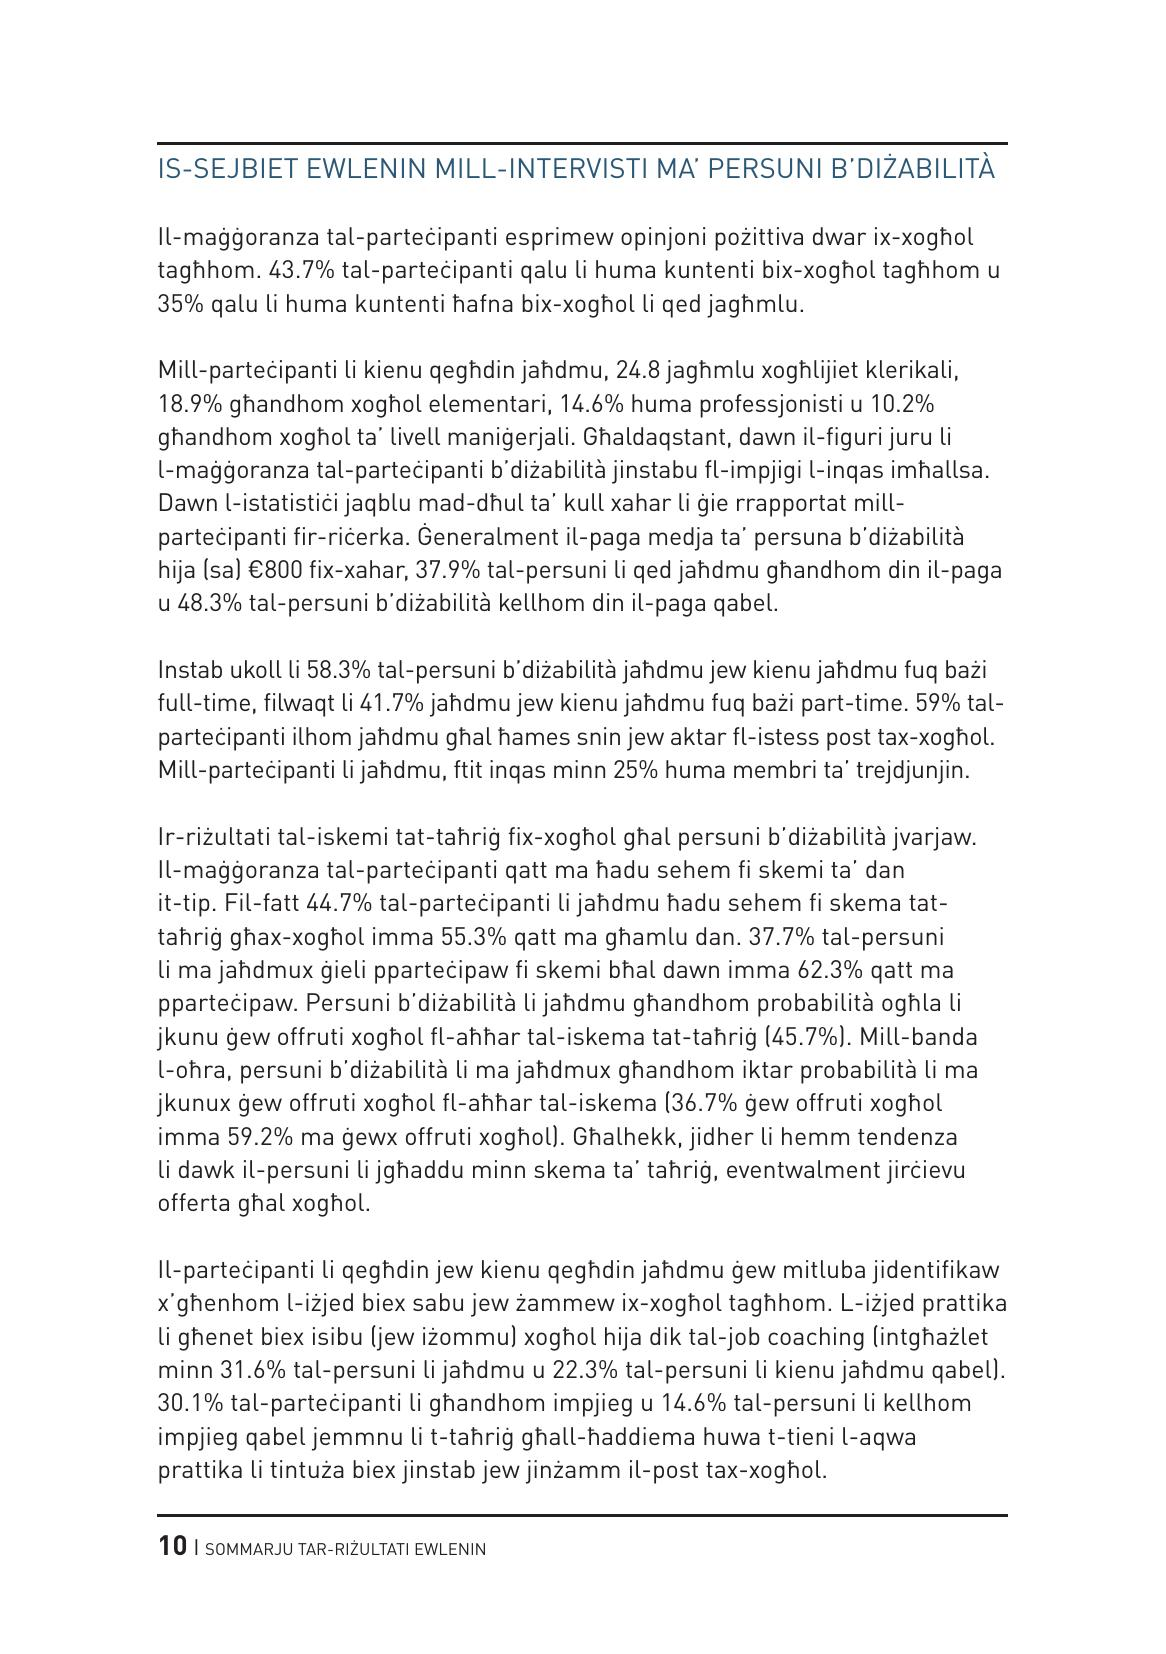text: (141, 148, 1017, 1496)
